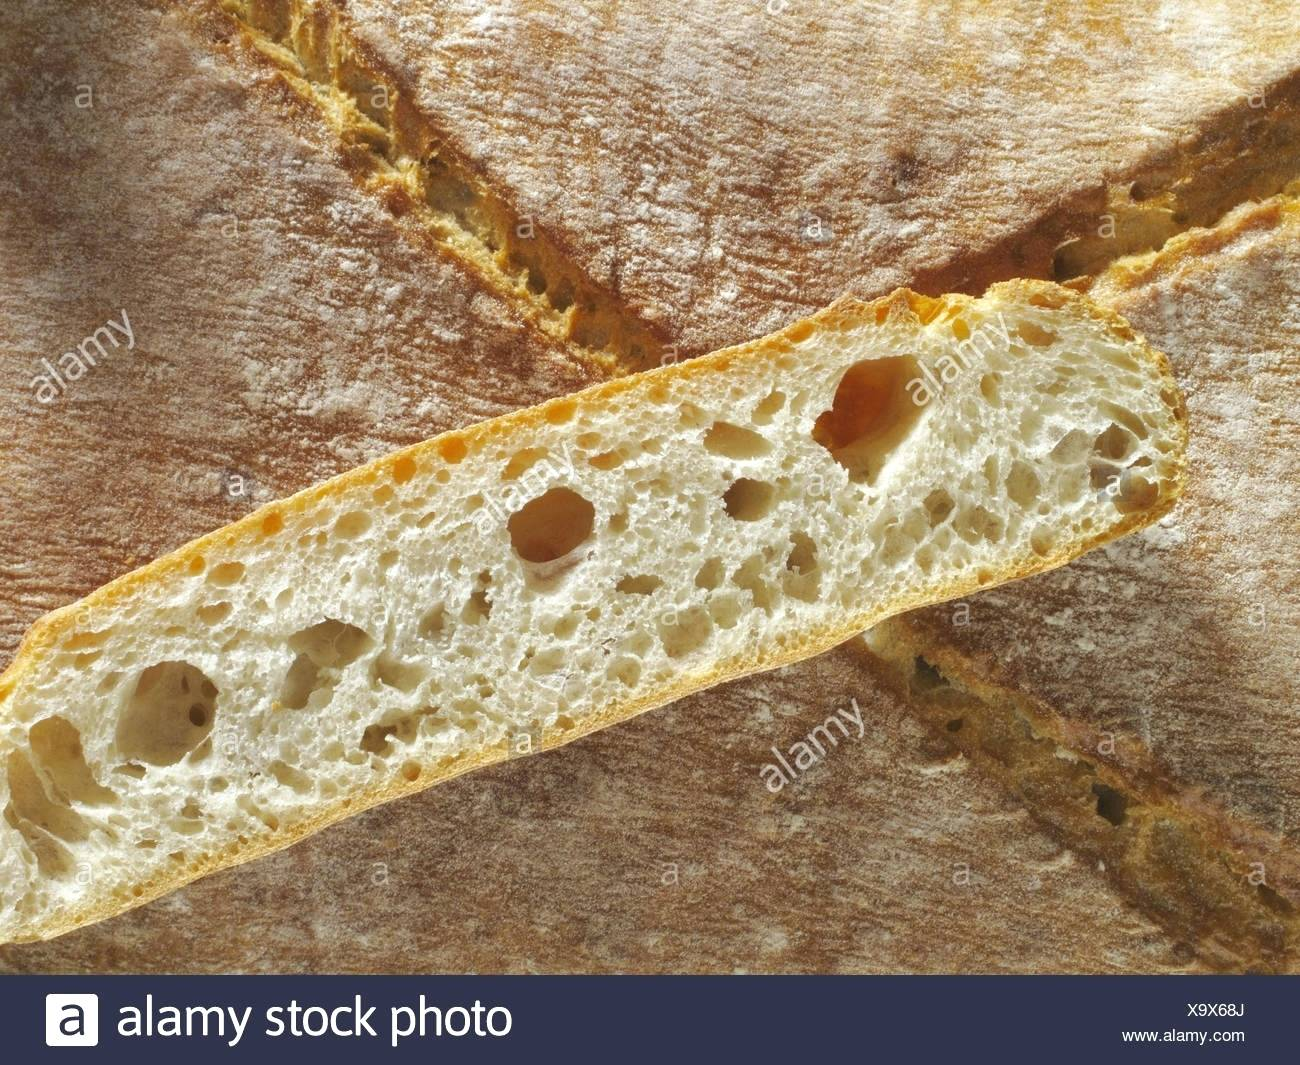slice of bread: (93, 439, 1223, 779)
